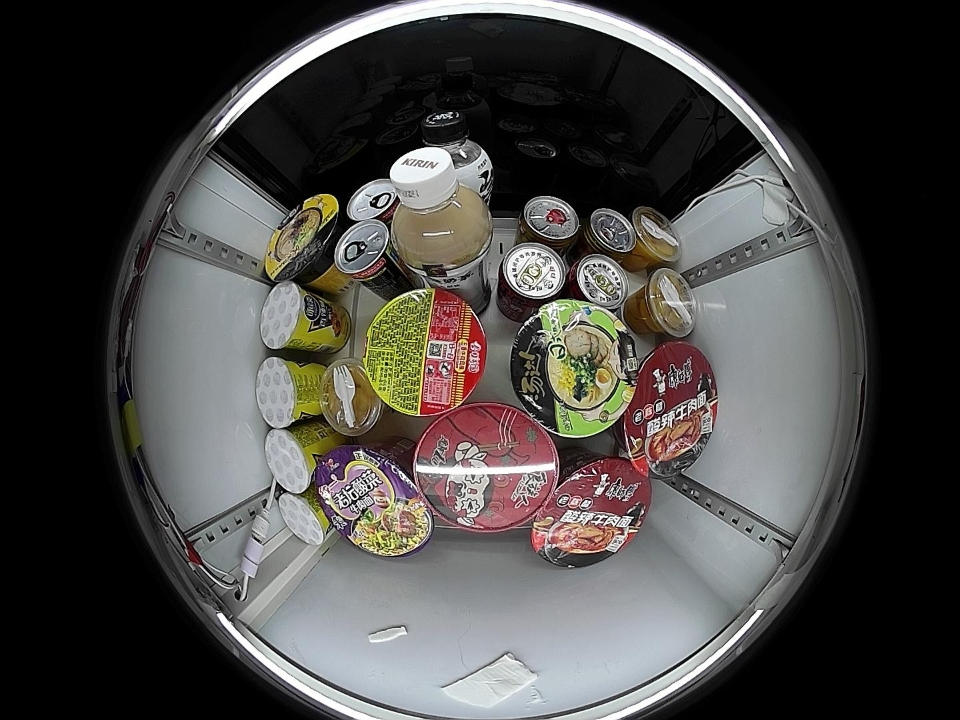heweidao3: (362, 286, 487, 417)
hongniu: (517, 195, 580, 250)
hongniu2: (580, 208, 635, 260)
kebike: (255, 356, 314, 428), (259, 282, 318, 351), (264, 427, 321, 493), (277, 489, 332, 546)
laotansuancai: (316, 445, 435, 559)
suanlafen: (413, 403, 558, 533)
suanlaniurou: (531, 456, 652, 567), (620, 343, 718, 478)
tangdaren: (509, 300, 638, 439)
tangdaren2: (264, 193, 342, 284)
wangzainiunai: (497, 243, 567, 314), (566, 253, 629, 311)
wuhounaicha: (390, 146, 491, 268)
xianguolao: (319, 360, 384, 437), (635, 268, 697, 339), (628, 206, 681, 267)
yezhi: (333, 218, 400, 284), (345, 178, 399, 226)
yuanqishui: (420, 108, 492, 183)
